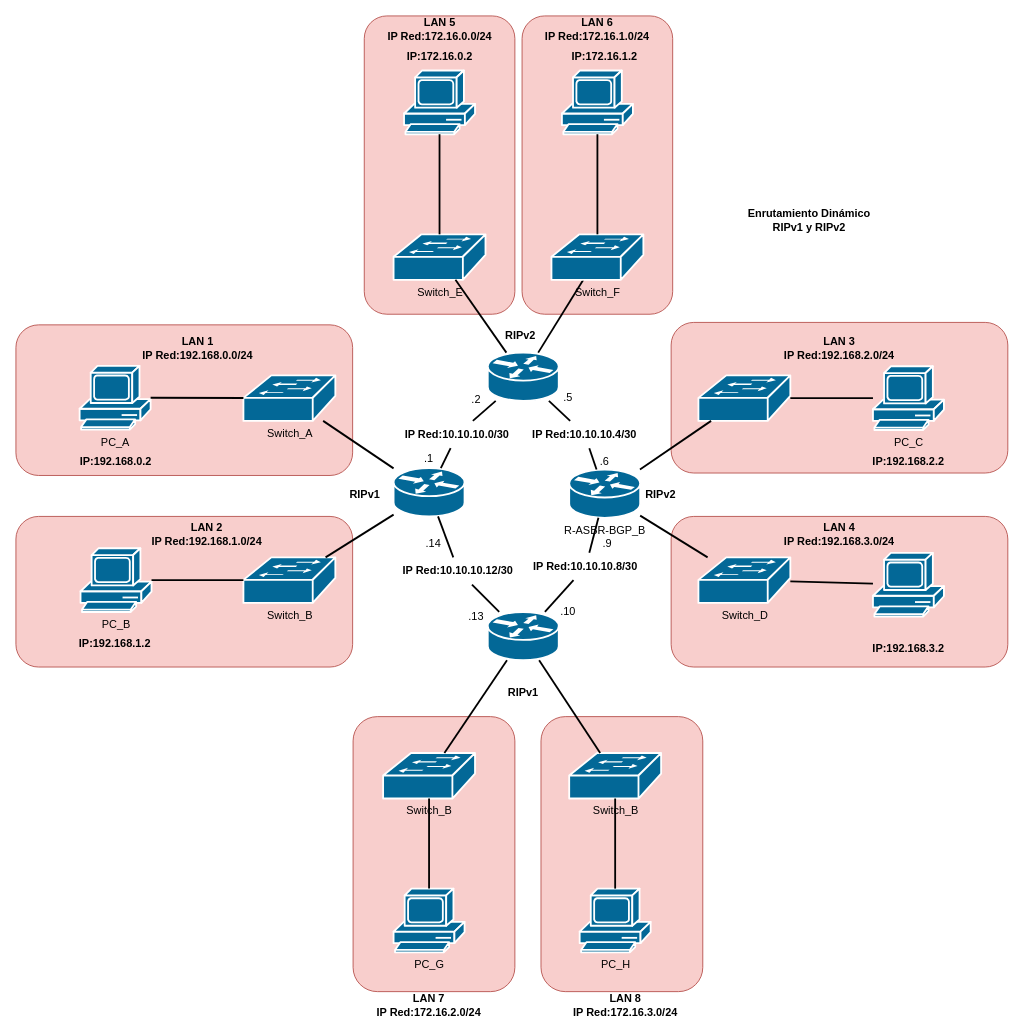
This 1024x1035 diagram has some shape labels left out. The box of each missing label's shape, as (x1, y1, x2, y2) in pixels:
PC_D: (872, 551, 944, 617)
PC_E: (403, 69, 475, 135)
PC_F: (561, 69, 633, 135)
R-ASBR-BGP_A: (392, 467, 465, 517)
R-ASBR-BGP_C: (486, 611, 559, 661)
R-EDGE-ISP: (486, 351, 559, 401)
Switch_C: (697, 374, 791, 421)
